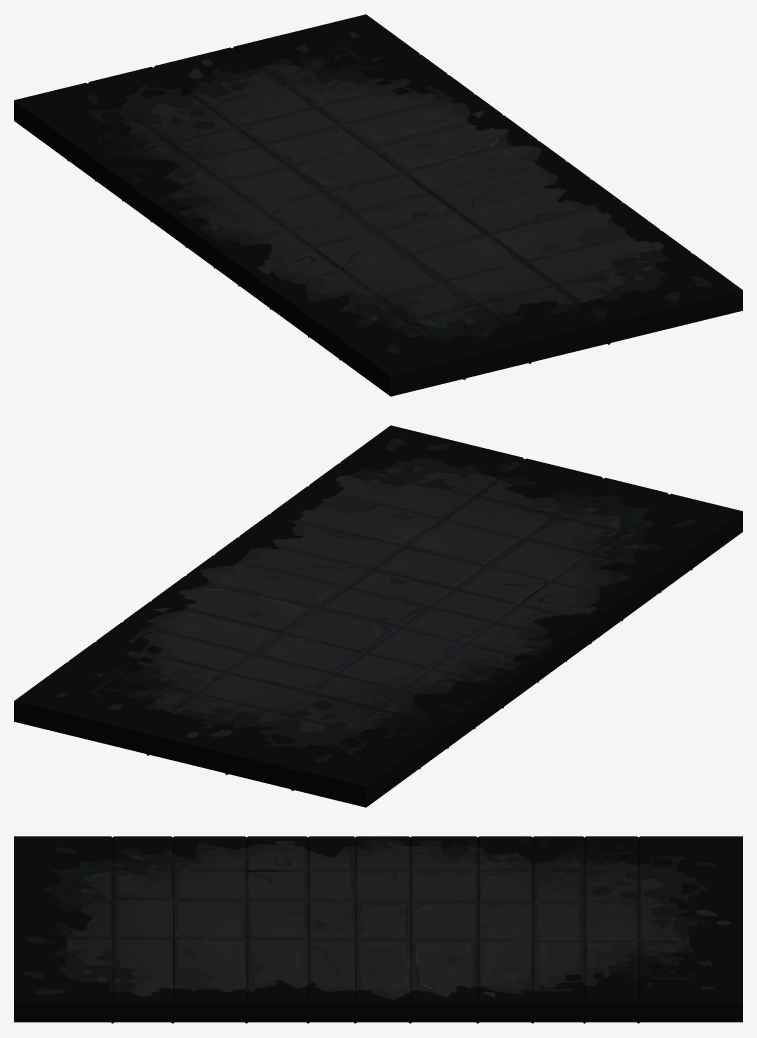
The model's file is SM_Sol_operation.fbx.
3 views of the same model, one above another, from view 1: azimuth 30°, elevation 25°; view 2: azimuth 150°, elevation 25°; view 3: azimuth 270°, elevation 25° (orthographic). The views are drawn at different scales.
Visible parts, largest first — view 1: Cube.001; view 2: Cube.001; view 3: Cube.001.
Boxes of the visible parts, <box> form: Cube.001: <box>14,14,742,396</box>; Cube.001: <box>14,425,742,807</box>; Cube.001: <box>14,836,742,1023</box>.
Size of the model in its own units: 325 by 19.6 by 602.
